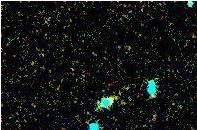star: (113, 33, 143, 63)
